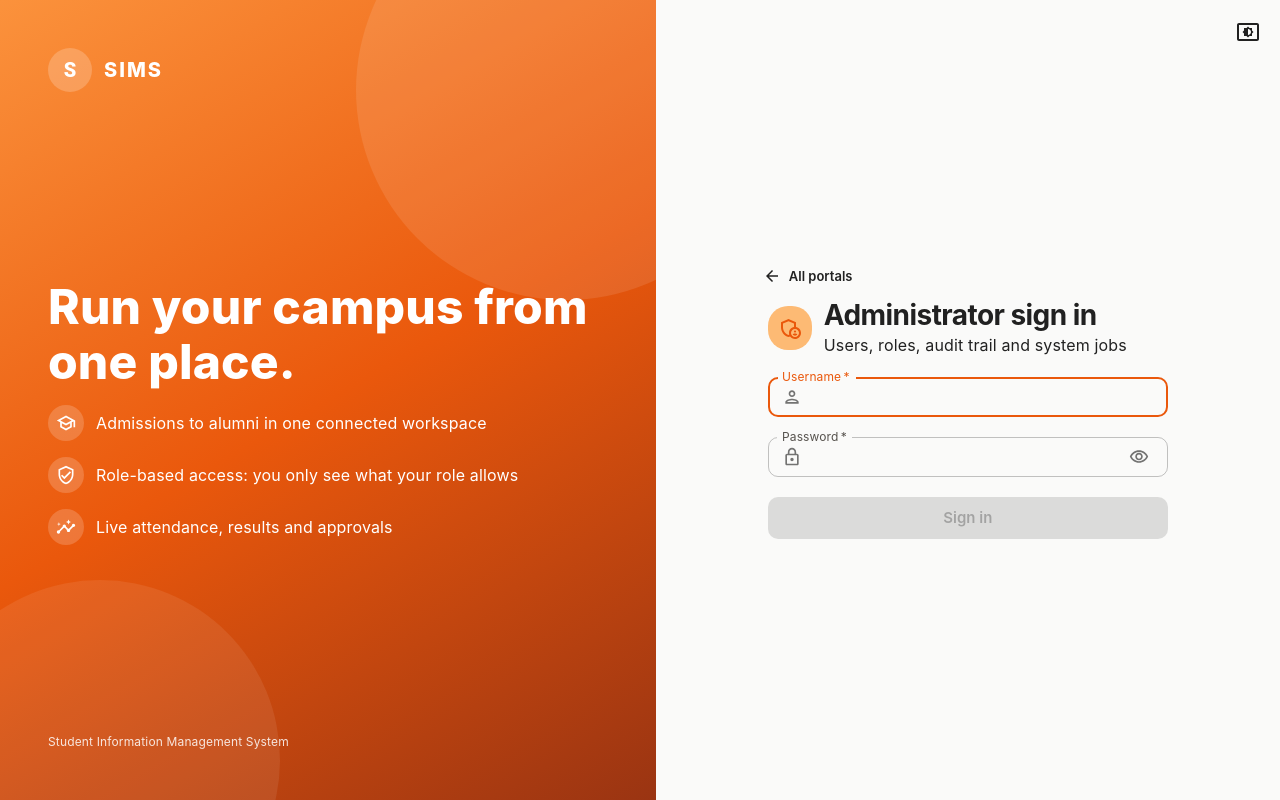
Test case: application shell › offers a separate entrance per audience and sends the chosen portal with the login
Expected: the heading "Administrator sign in" is shown, [824,300,1127,333]
Type "student" into the field labelled "Username *" at (989, 397), box [810,377,1168,417]
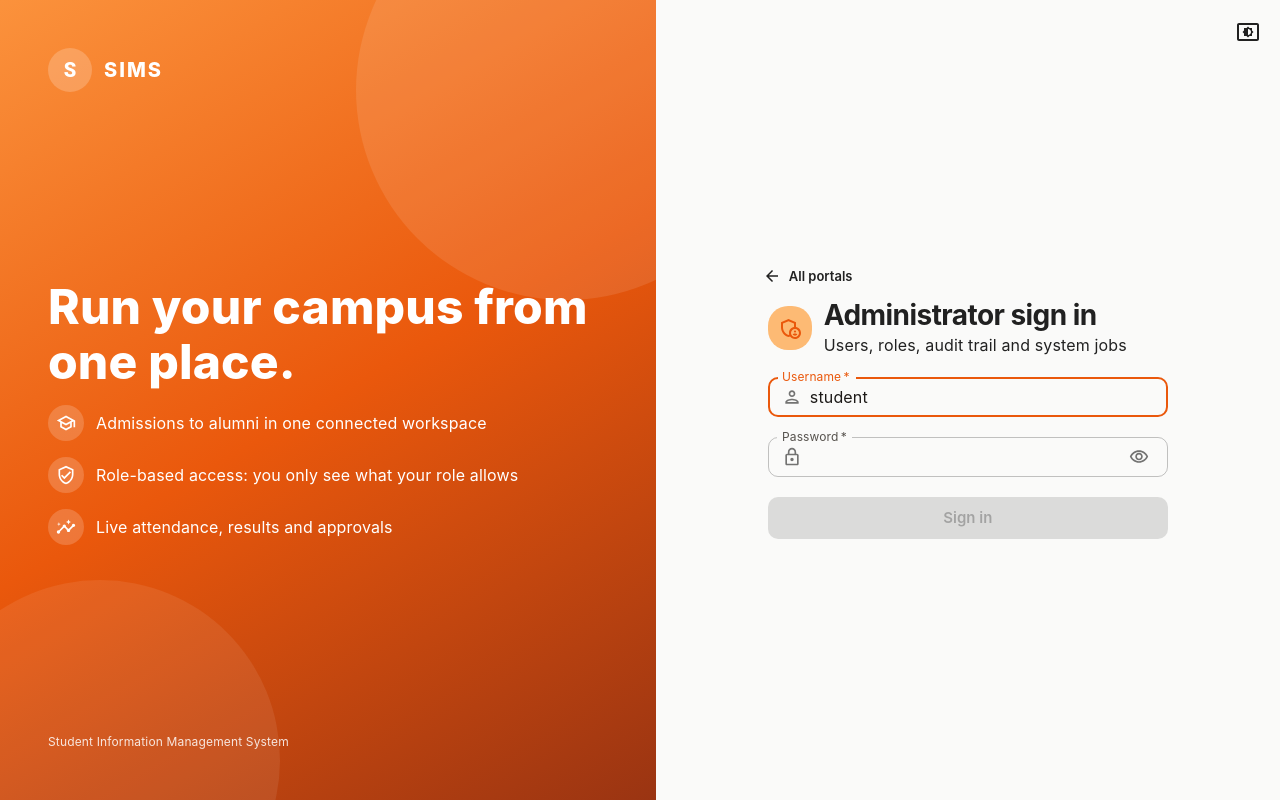
Type "pw" into the password field labelled "Password *" at (963, 457), box [810,437,1116,477]
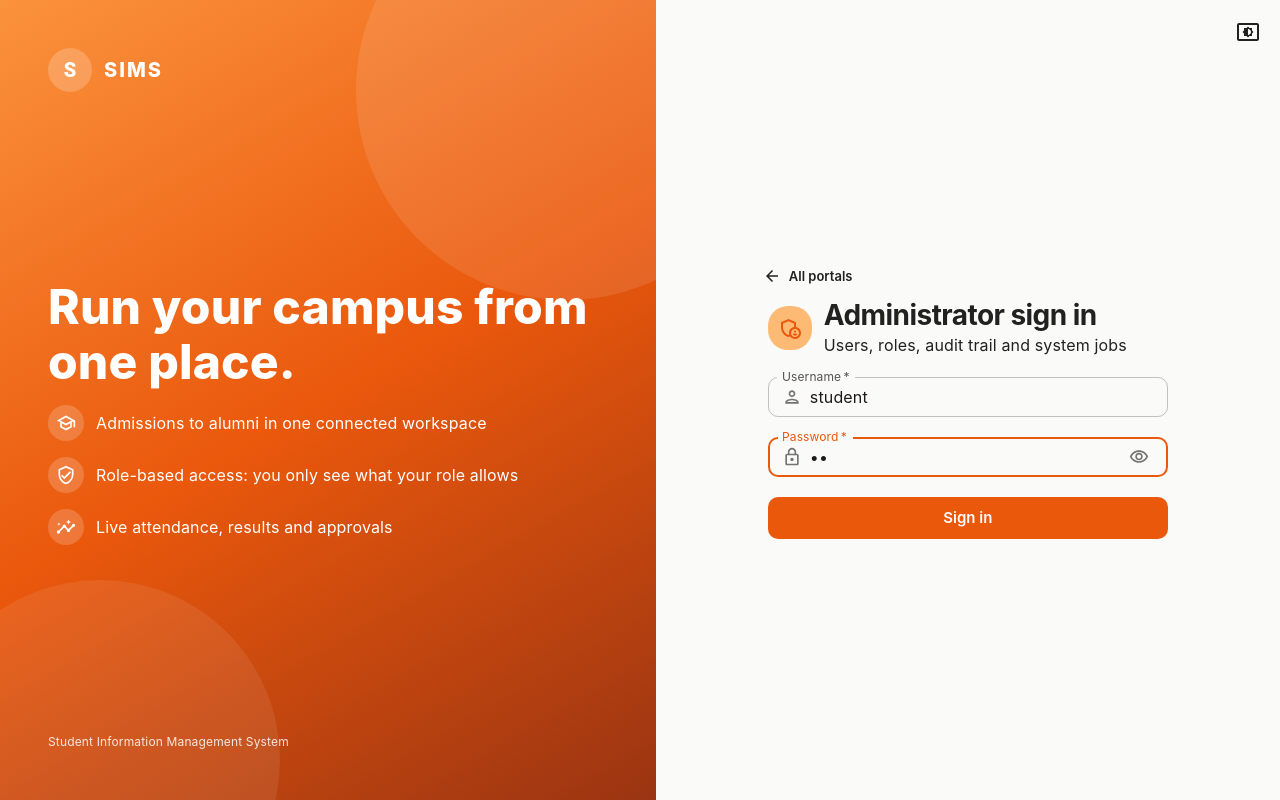
Click the button "Sign in" at (968, 518), box [768,497,1168,539]
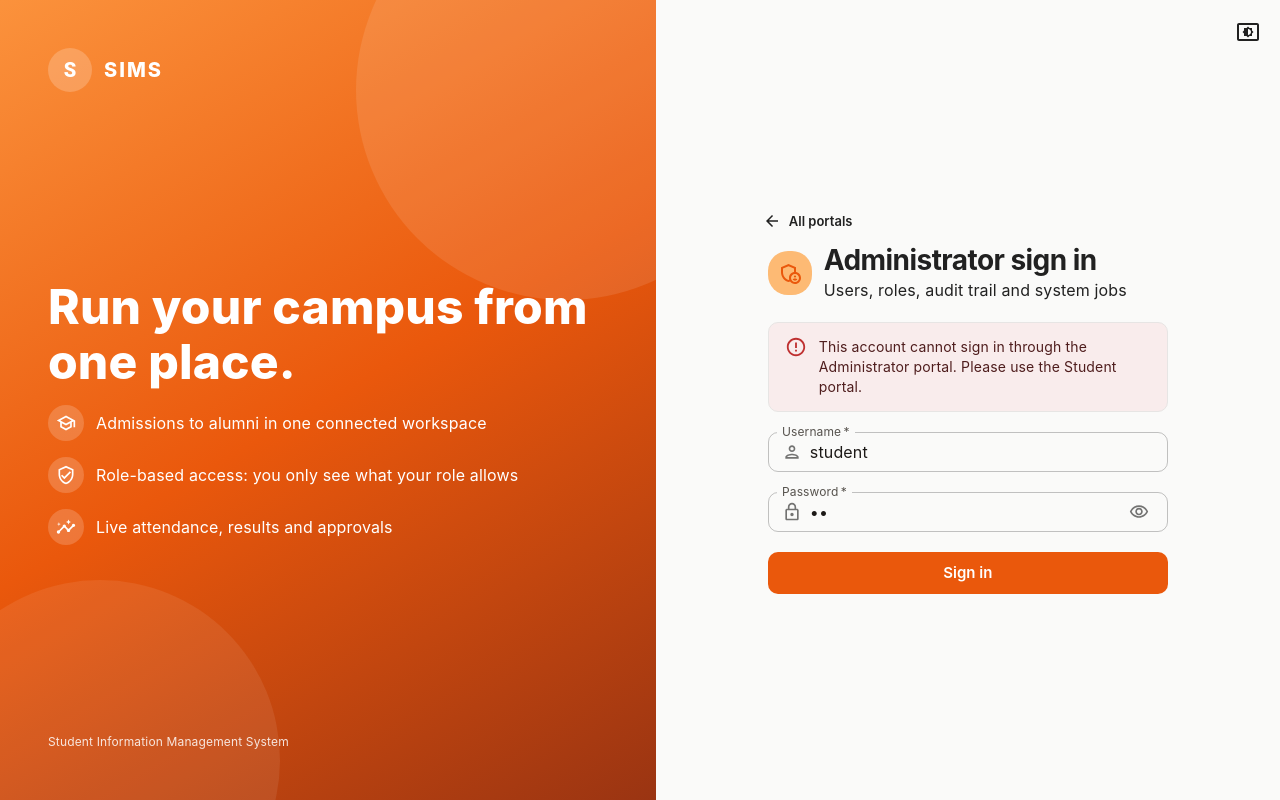
Result: the text "please use the student portal" is shown at [819,338,1117,395]
Click the button "All portals" at (809, 221), box [760,206,857,236]
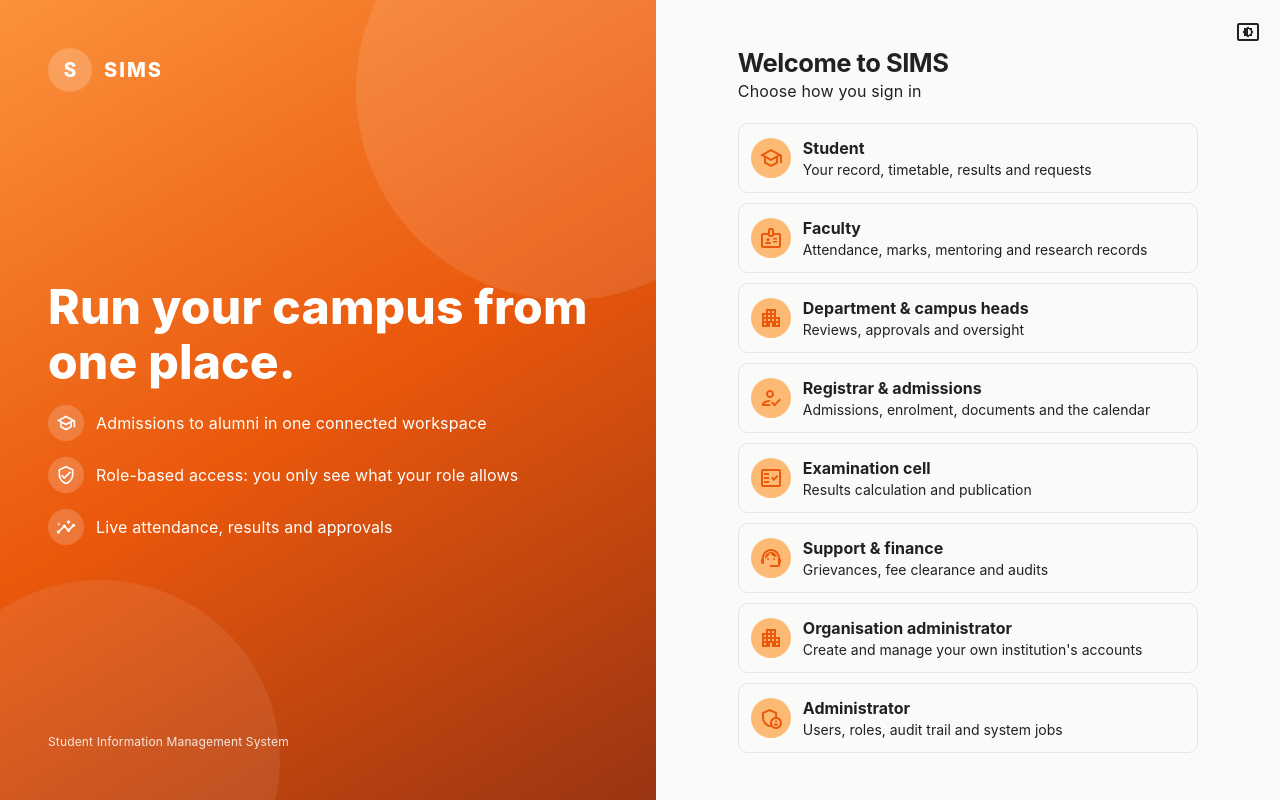
Result: the list named "sign-in portals" is shown at [738,123,1198,753]
